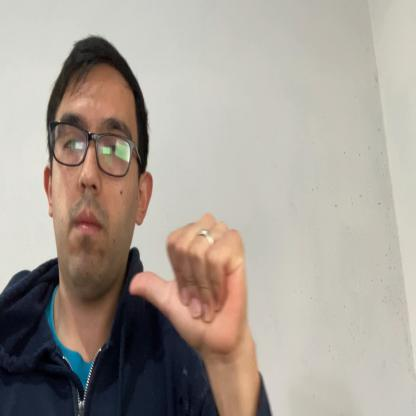A: (130, 214, 246, 360)
